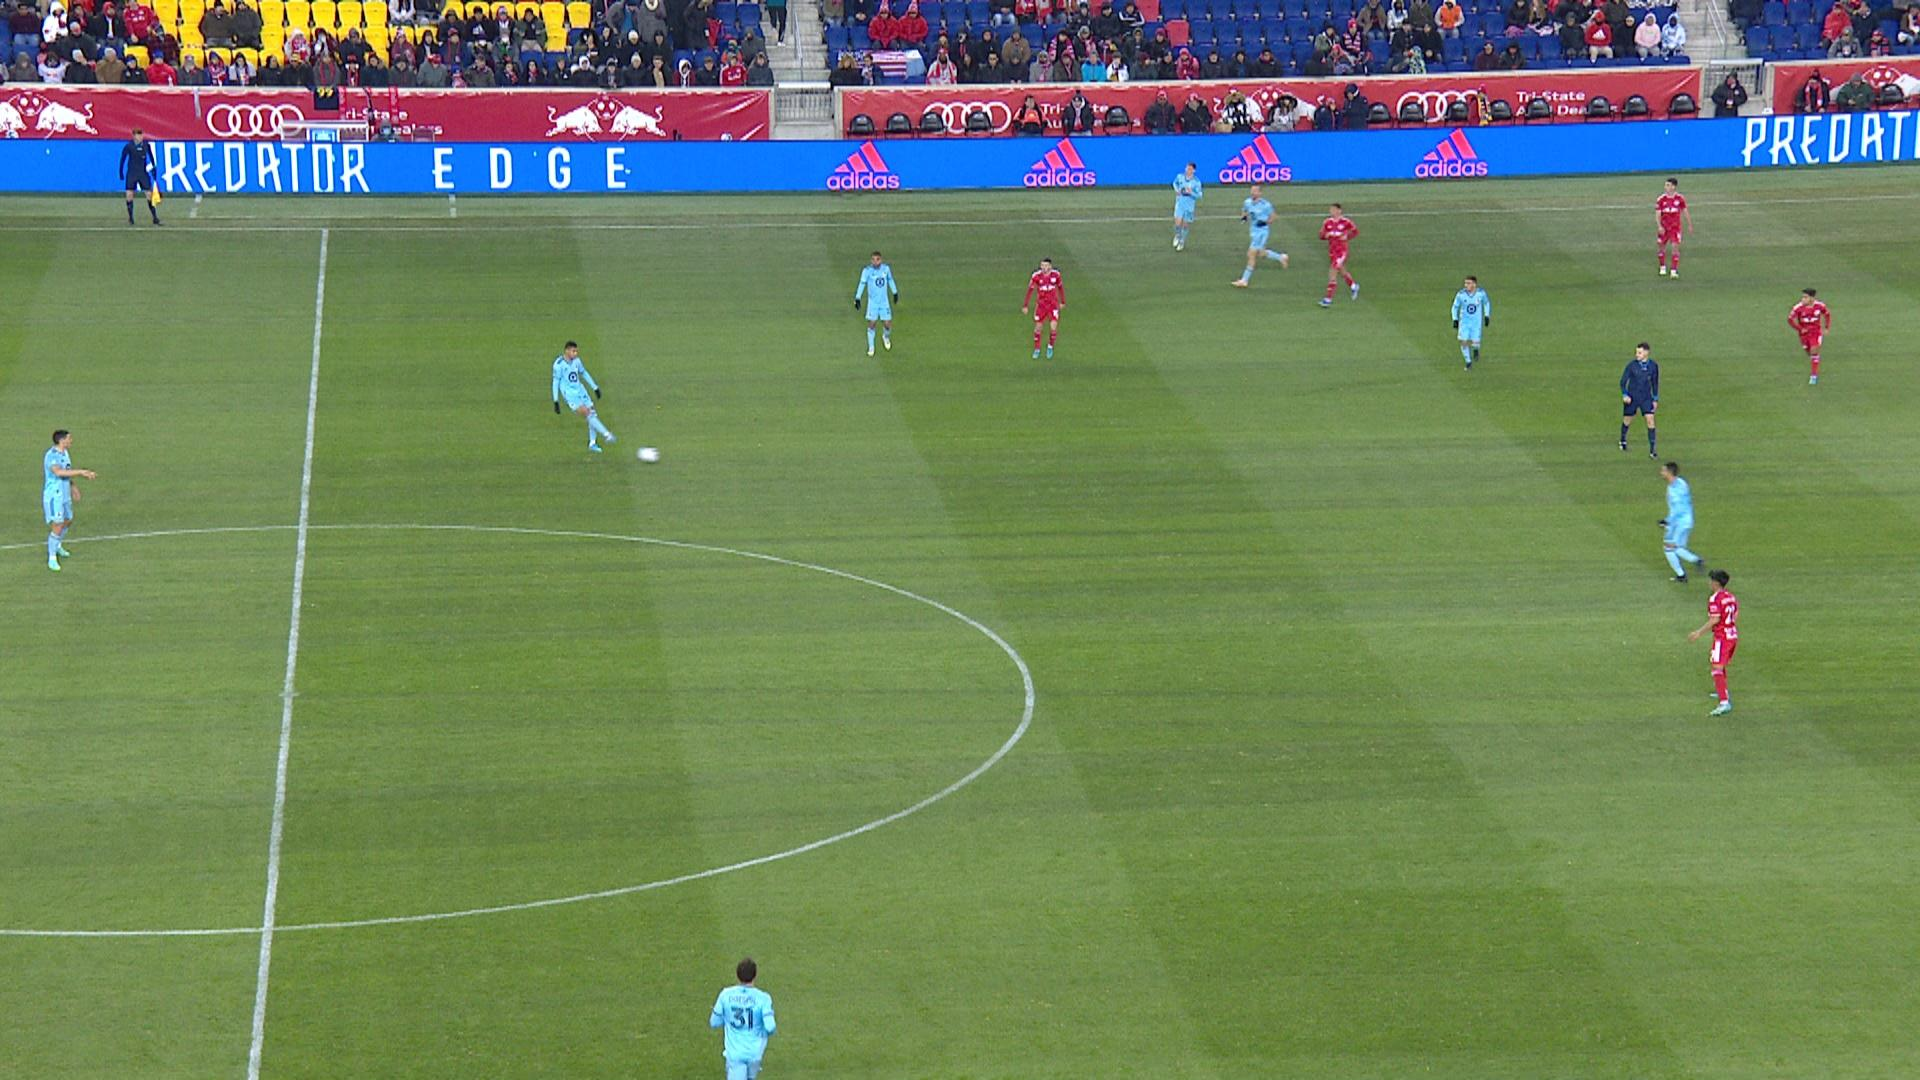football: (638, 444, 662, 464)
